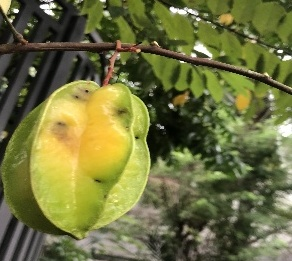Khe: (2, 80, 152, 242)
